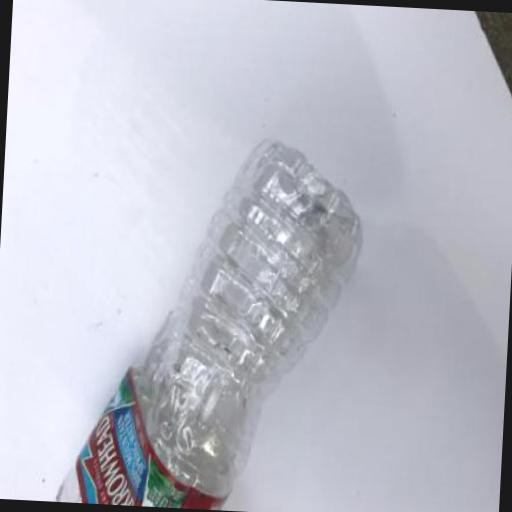plastic: (54, 126, 367, 512), (72, 364, 238, 510)
